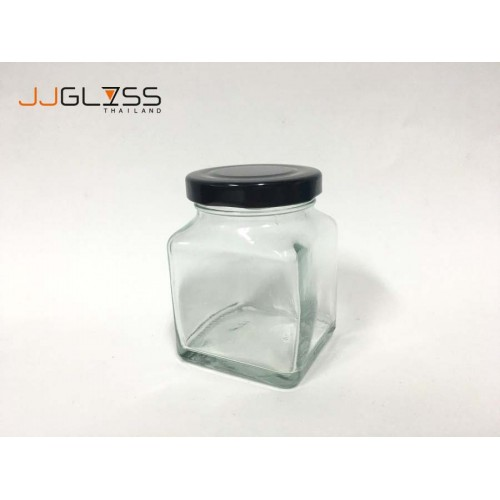glass_bottle: (164, 158, 342, 389)
